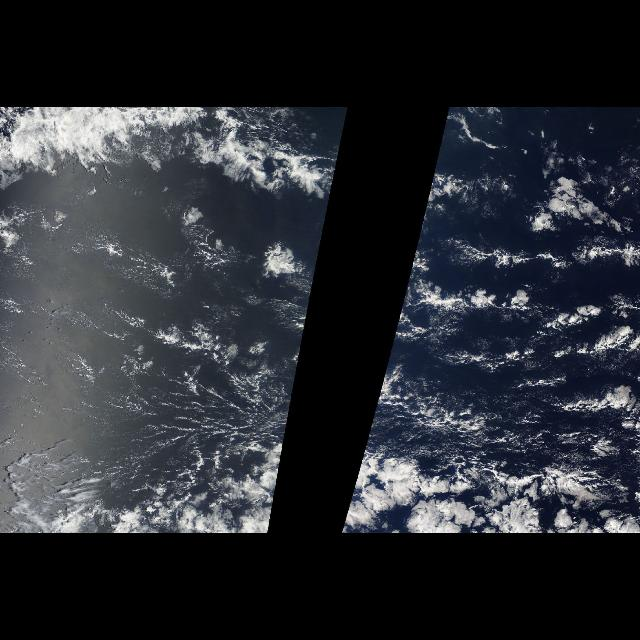Flower: (341, 442, 639, 534), (132, 442, 284, 534)
